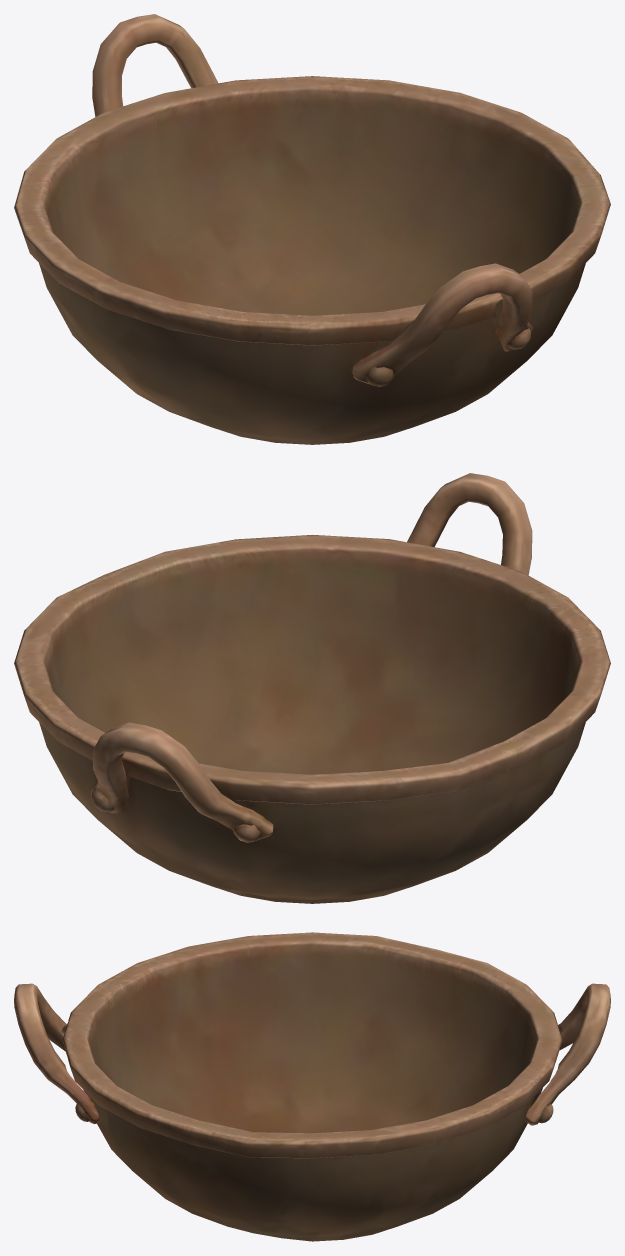
The picture shows the model from 3 angles, top to bottom: view 1: azimuth 30°, elevation 25°; view 2: azimuth 150°, elevation 25°; view 3: azimuth 270°, elevation 25°; orthographic projection. The views are drawn at different scales.
Parts seen in each view (by area): view 1: SM_Cookware_Brass_Pot_Medium_01_LOD0; view 2: SM_Cookware_Brass_Pot_Medium_01_LOD0; view 3: SM_Cookware_Brass_Pot_Medium_01_LOD0.
Part boxes in pixels (x1,y1,x2,y2): SM_Cookware_Brass_Pot_Medium_01_LOD0: (14, 14, 610, 444); SM_Cookware_Brass_Pot_Medium_01_LOD0: (14, 473, 610, 903); SM_Cookware_Brass_Pot_Medium_01_LOD0: (14, 932, 610, 1241).
Size of the model in its own units: 0.5216 by 0.2586 by 0.6223.
1 material, 1 textured.
